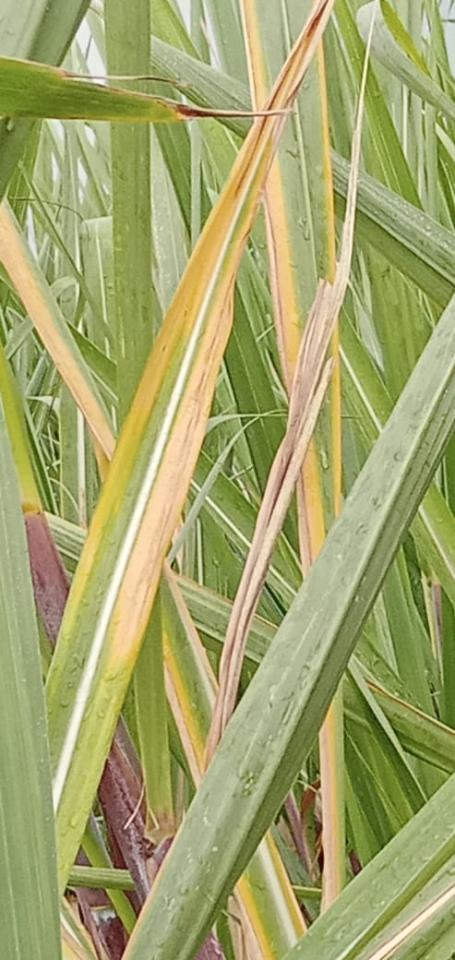Yellow: (58, 116, 266, 641), (108, 114, 287, 658), (3, 208, 115, 460), (263, 152, 300, 397), (260, 0, 325, 111), (280, 0, 335, 110), (163, 639, 203, 777), (319, 35, 336, 282), (323, 703, 342, 893), (236, 873, 275, 959), (301, 438, 323, 579), (243, 0, 264, 112), (333, 319, 343, 517)
